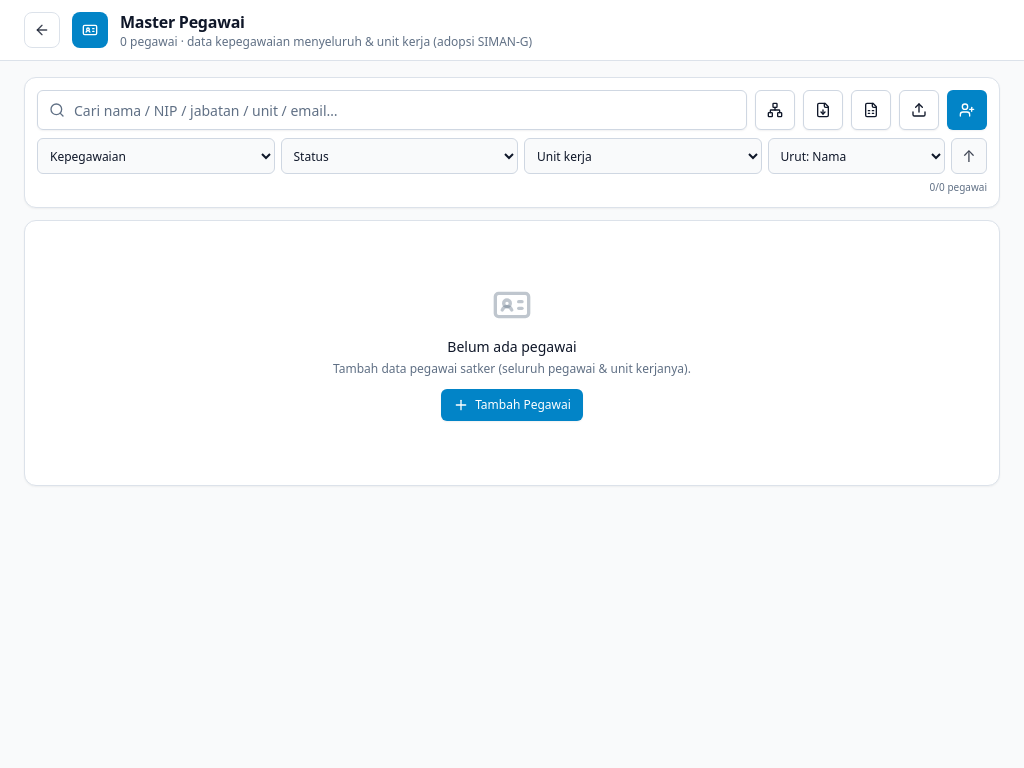
Test case: sisa unit di ATAS puncak tetap punya tab, tetapi tak dapat ditambahi
The width and height of the screenshot is (1024, 768).
Click the button with test id "pegawai-add". click: [967, 110]
box: [947,90,987,130]
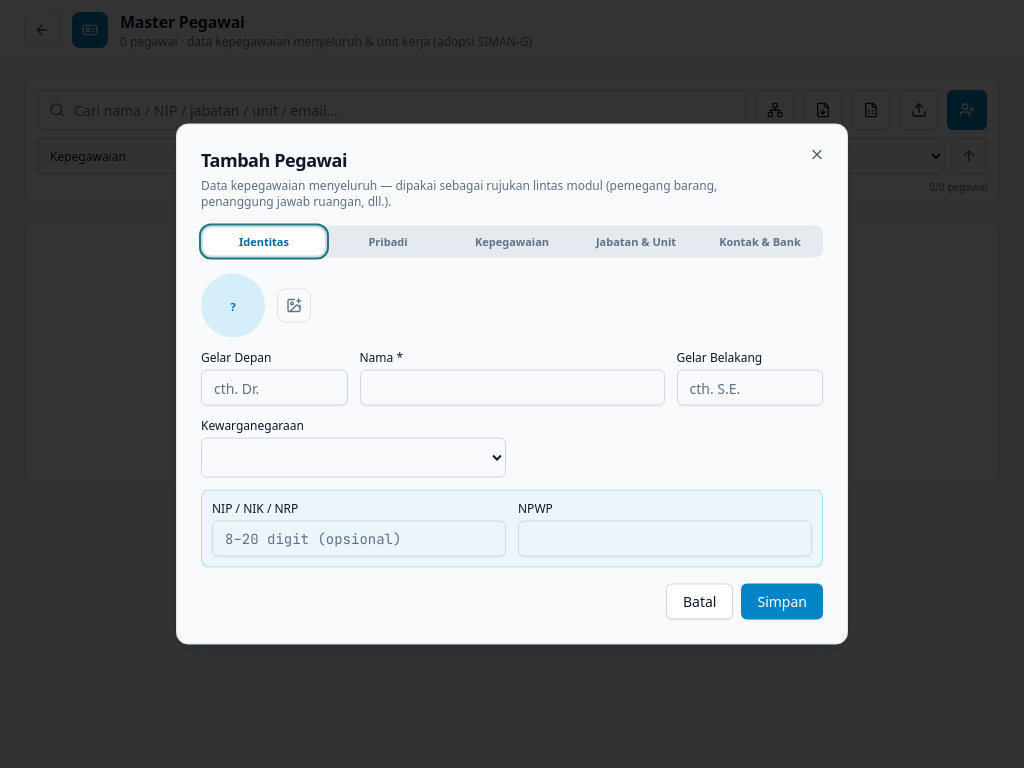
Click the button with test id "pegawai-tab-jabatan". click: [636, 241]
box: [575,227,697,256]
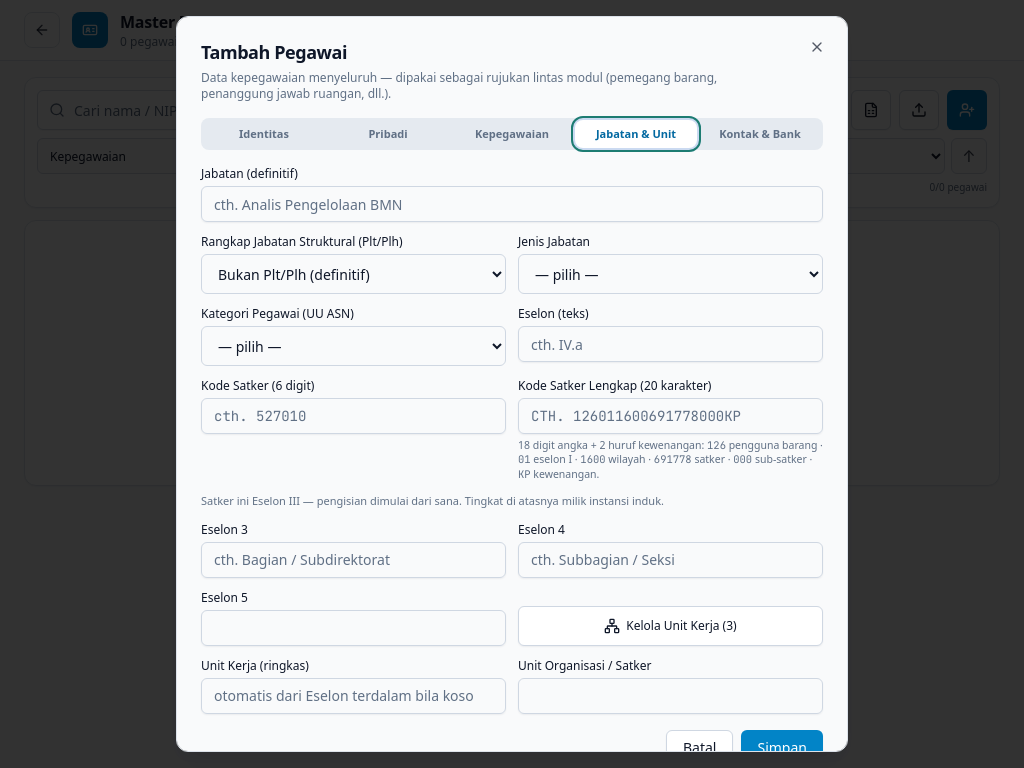
Click the button with test id "pegawai-kelola-unit". click: [670, 626]
box: [518,606,823,646]
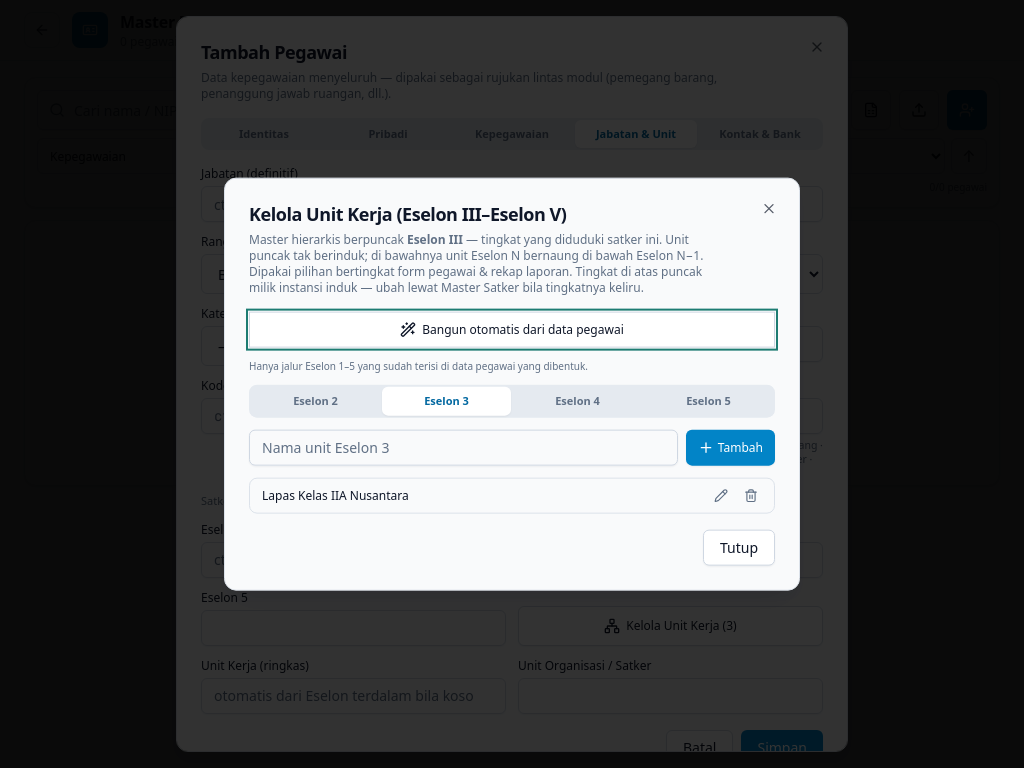
Click the button "Eselon 2". click: [316, 401]
box: [251,387,380,415]
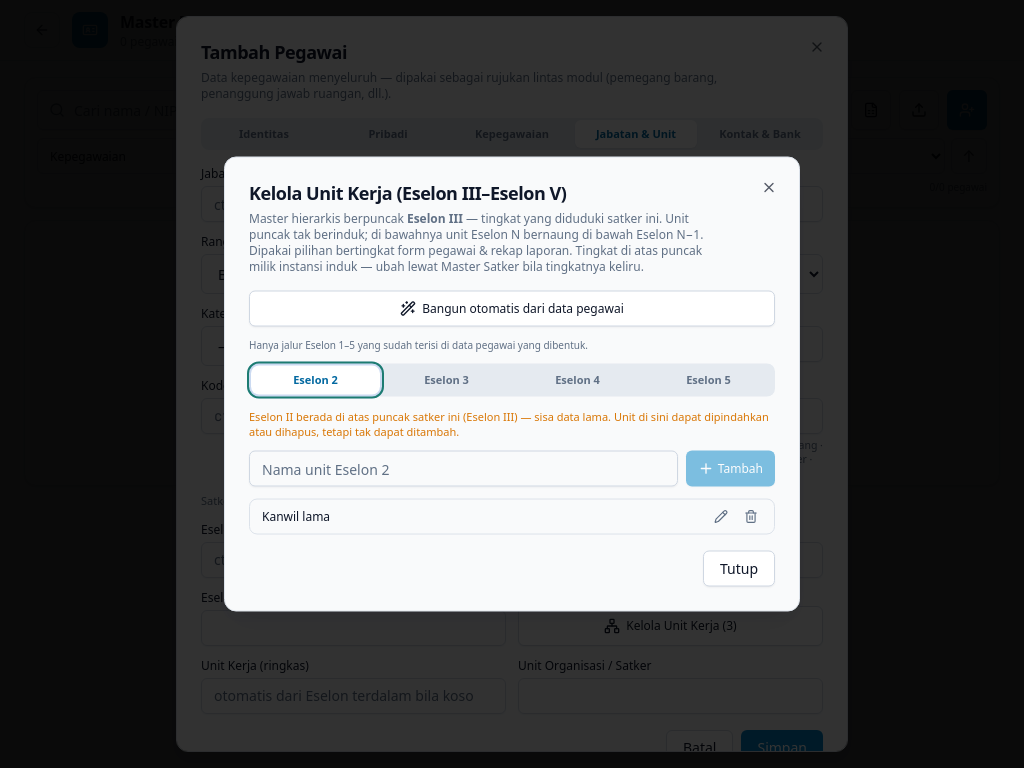
expect the text with test id "unit-di-atas-puncak" is shown: met, box [249,408,775,439]
expect the button with test id "unit-tambah" is disabled: met, box [686,450,775,486]
